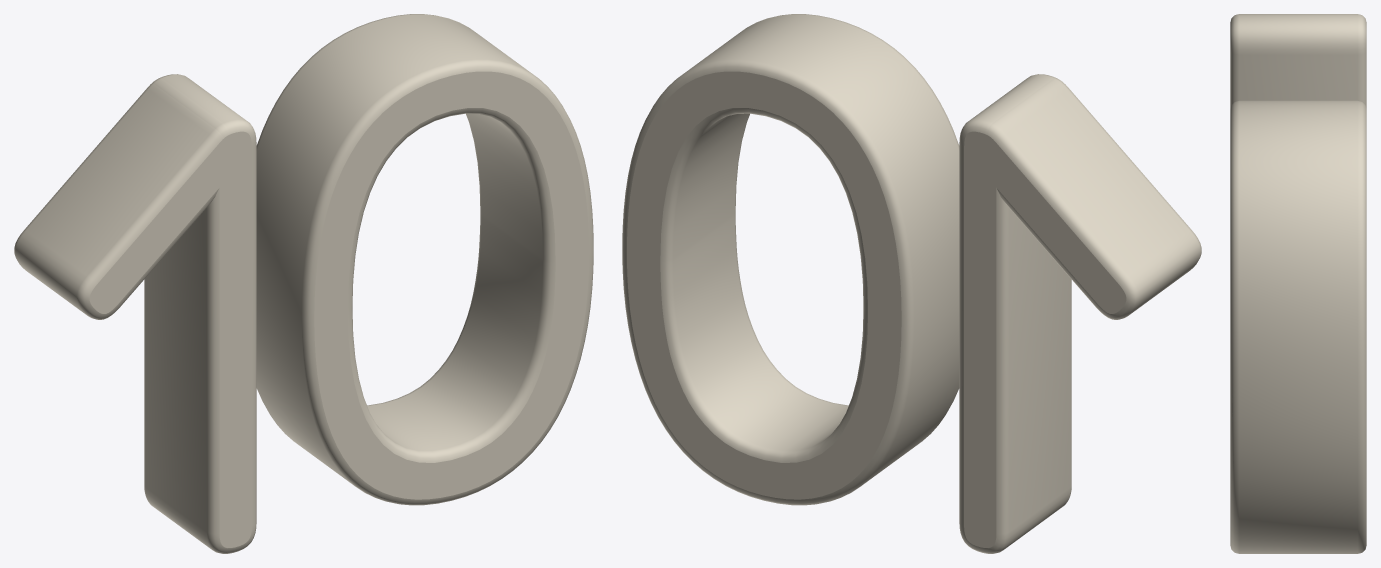
Rendered from number_10.glb.
3 views of the same model, side by side, from view 1: azimuth 30°, elevation 25°; view 2: azimuth 150°, elevation 25°; view 3: azimuth 270°, elevation 25° (orthographic). The views are drawn at different scales.
Visible parts, largest first — view 1: color_body; view 2: color_body; view 3: color_body.
Part boxes in pixels (x1,y1,x2,y2): color_body: (14,14,593,553); color_body: (622,14,1201,553); color_body: (1230,14,1366,553).
Size of the model in its own units: 1.02 by 0.8261 by 0.242.
